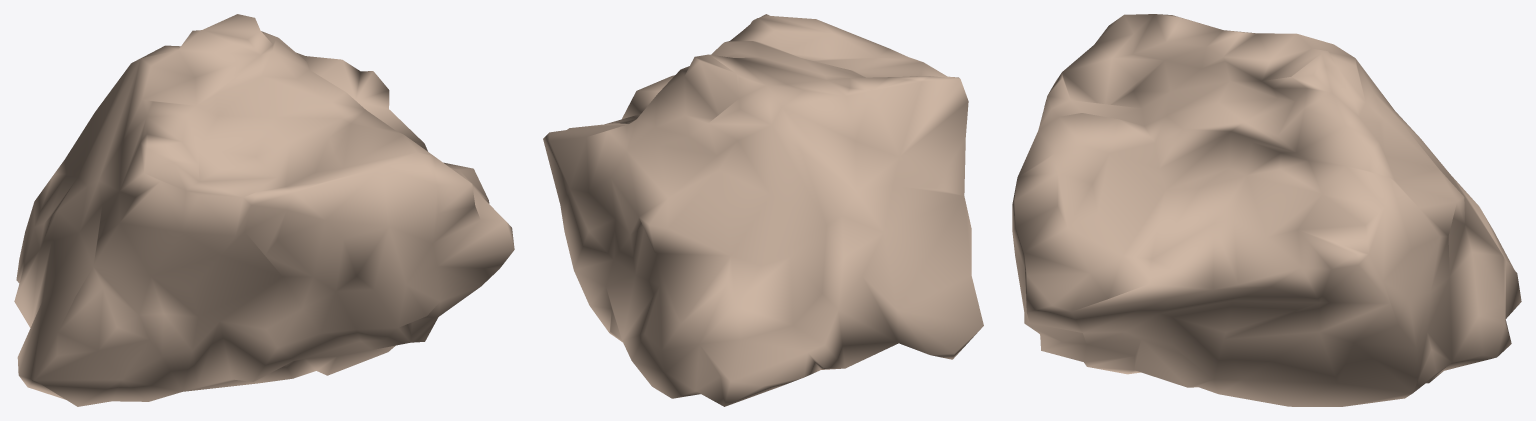
Rendered from rk_stones_2.glb.
The picture shows the model from 3 angles, left to right: view 1: azimuth 30°, elevation 25°; view 2: azimuth 150°, elevation 25°; view 3: azimuth 270°, elevation 25°; orthographic projection. The views are drawn at different scales.
Parts seen in each view (by area): view 1: namaqualand_stones_01_a; view 2: namaqualand_stones_01_a; view 3: namaqualand_stones_01_a.
Part boxes in pixels (left/top/right/bottom): namaqualand_stones_01_a: left=14, top=14, right=514, bottom=406; namaqualand_stones_01_a: left=543, top=14, right=983, bottom=406; namaqualand_stones_01_a: left=1012, top=14, right=1521, bottom=406.
Bounding box in the file's own units: 0.9892 × 0.683 × 1.
